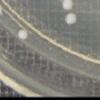white: (15, 27, 30, 41), (65, 9, 77, 26), (60, 0, 76, 11)
